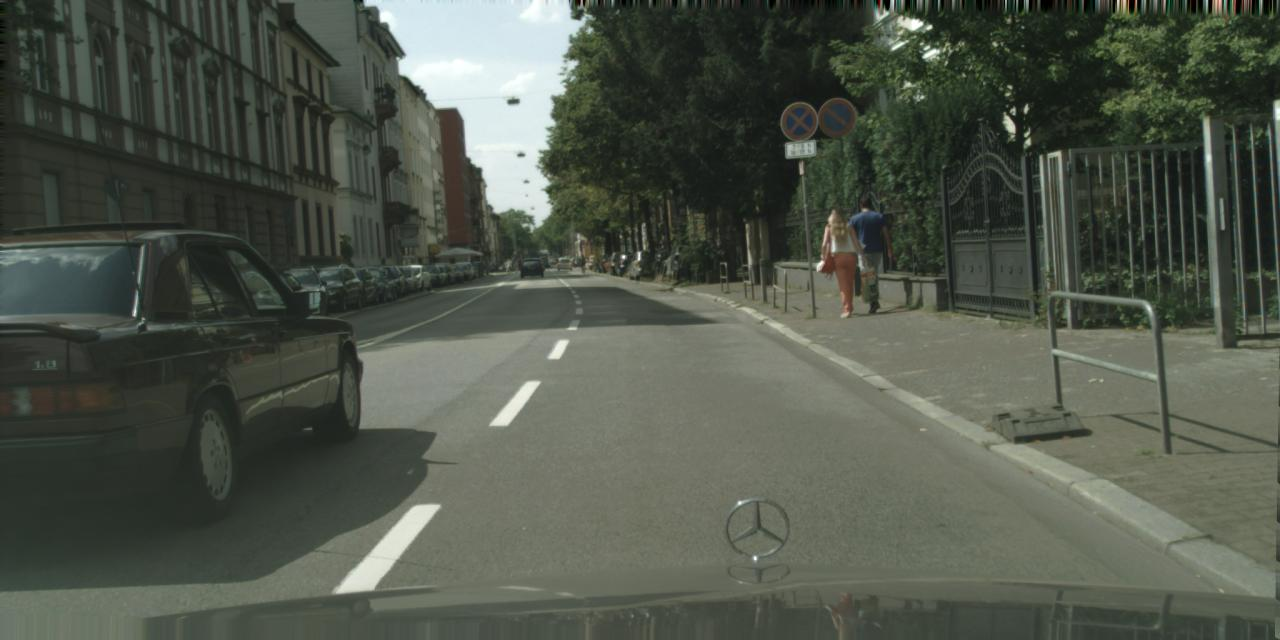ped: (848, 197, 894, 310), (820, 208, 864, 318), (512, 256, 518, 272), (580, 254, 586, 270), (506, 260, 511, 272)
